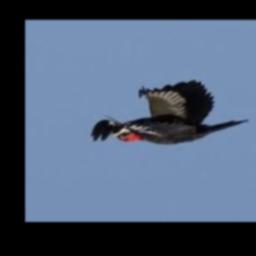Woodpecker: (92, 80, 250, 145)
